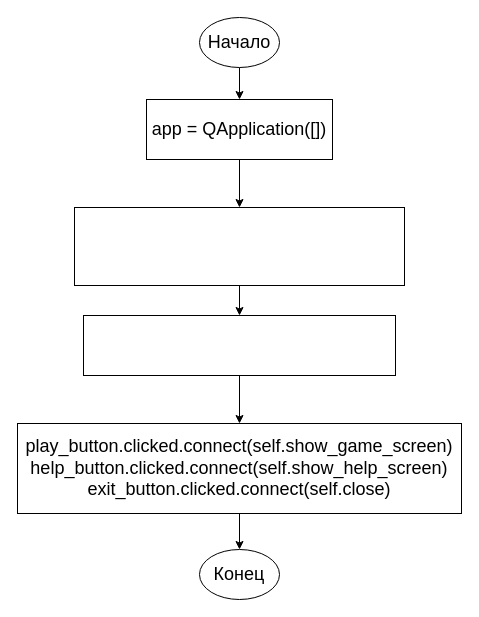
This 479x617 diagram has some shape labels left out. Here are the shapes that lost their labels. From the top down, the centre of each, then its label:
the point at 239,246: mainWindow = ArkanoidMainWindow() mainWindow.show() app.exec()
the point at 239,345: self.init_menu_screen()
